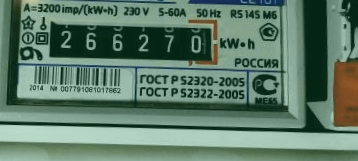0: (188, 33, 202, 54)
2: (58, 29, 73, 50), (136, 32, 150, 53)
6: (110, 32, 124, 53), (84, 30, 97, 52)
7: (162, 33, 174, 53)
screen: (39, 10, 225, 71)
